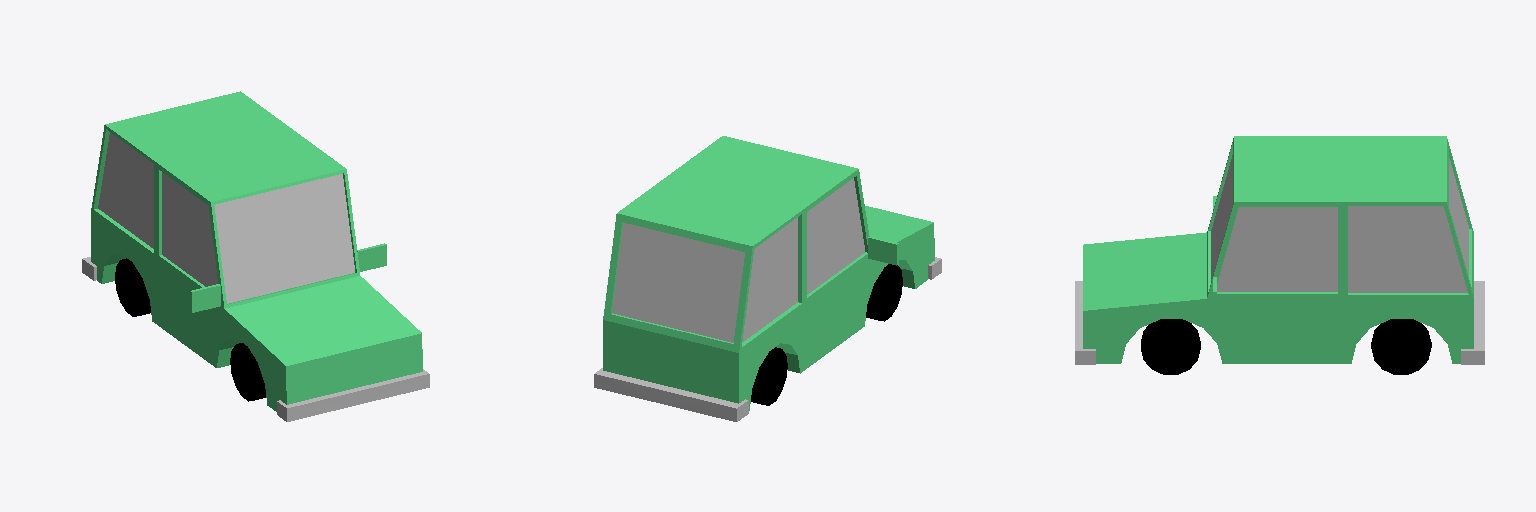
The picture shows the model from 3 angles: view 1: azimuth 30°, elevation 25°; view 2: azimuth 150°, elevation 25°; view 3: azimuth 270°, elevation 25°; orthographic projection.
Visible parts, largest first — view 1: Plane; view 2: Plane; view 3: Plane.
Part boxes in pixels (left/top/right/bottom): Plane: left=82, top=91, right=429, bottom=421; Plane: left=594, top=136, right=941, bottom=421; Plane: left=1075, top=136, right=1484, bottom=374.
Size of the model in its own units: 2.53 by 2.16 by 4.61.
Materials: 4 (1 with a texture image).